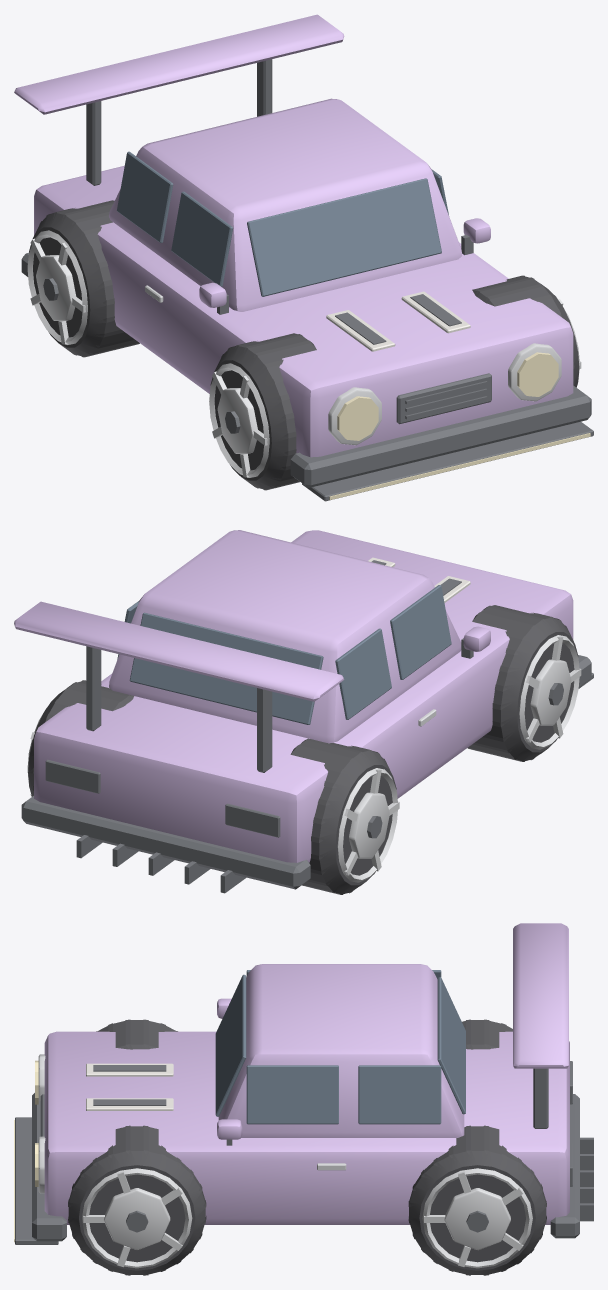
Rendered from rain_runner.fbx.
The picture shows the model from 3 angles, top to bottom: view 1: azimuth 30°, elevation 25°; view 2: azimuth 150°, elevation 25°; view 3: azimuth 270°, elevation 25°; orthographic projection. The views are drawn at different scales.
Visible parts, largest first — view 1: Body, Glass, Trim, Metal, Wheel_RR, Wheel_FR, Light, Wheel_FL, Accent; view 2: Body, Trim, Glass, Metal, Wheel_FR, Wheel_RR, Wheel_RL; view 3: Body, Glass, Metal, Trim, Wheel_FL, Wheel_RL, Accent, Wheel_FR, Wheel_RR, Light.
Part boxes in pixels (x1,y1,x2,y2): Body: [14, 14, 573, 457]; Glass: [117, 151, 448, 296]; Trim: [21, 59, 593, 501]; Metal: [27, 230, 581, 477]; Wheel_RR: [29, 200, 139, 357]; Wheel_FR: [210, 333, 316, 490]; Light: [329, 352, 590, 499]; Wheel_FL: [472, 275, 579, 387]; Accent: [326, 291, 470, 351]; Body: [14, 530, 573, 862]; Trim: [21, 560, 593, 893]; Glass: [117, 585, 451, 724]; Metal: [27, 635, 581, 882]; Wheel_FR: [467, 605, 578, 761]; Wheel_RR: [290, 738, 396, 894]; Wheel_RL: [28, 680, 134, 796]; Body: [44, 923, 569, 1224]; Glass: [215, 970, 465, 1124]; Metal: [38, 1054, 532, 1268]; Trim: [15, 1061, 593, 1244]; Wheel_FL: [68, 1125, 206, 1275]; Wheel_RL: [408, 1125, 546, 1275]; Accent: [86, 1063, 173, 1110]; Wheel_FR: [96, 1019, 177, 1049]; Wheel_RR: [462, 1019, 512, 1049]; Light: [14, 1060, 38, 1242].
Bounding box in the file's own units: 3.64 × 2.48 × 5.96.
